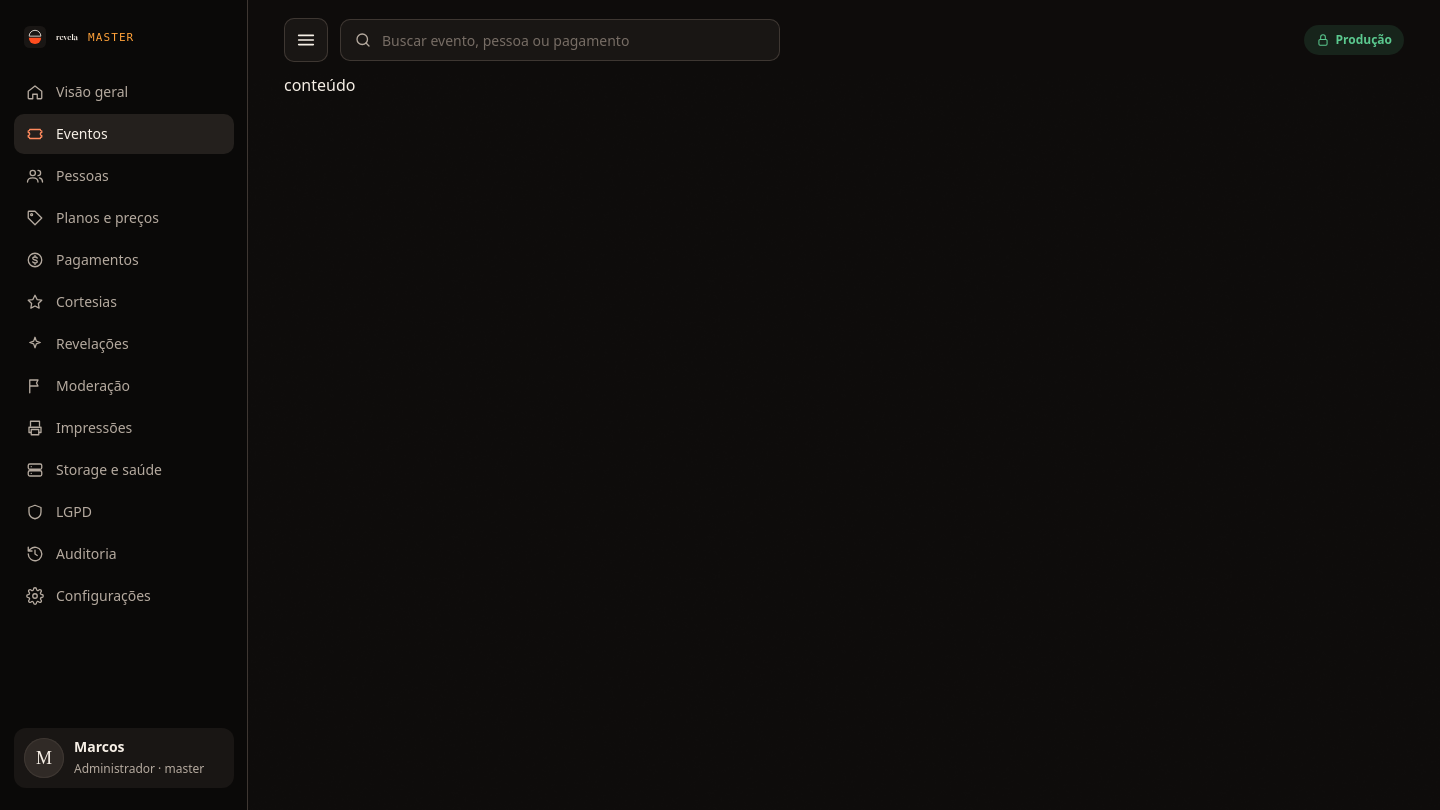
desktop (≥ 1024 px): trilho recolhível › recolhe e expande pelo botão, mantendo rótulos acessíveis e title nos ícones
Click the button named "Recolher menu" at [306, 40], box [284,18,328,62]
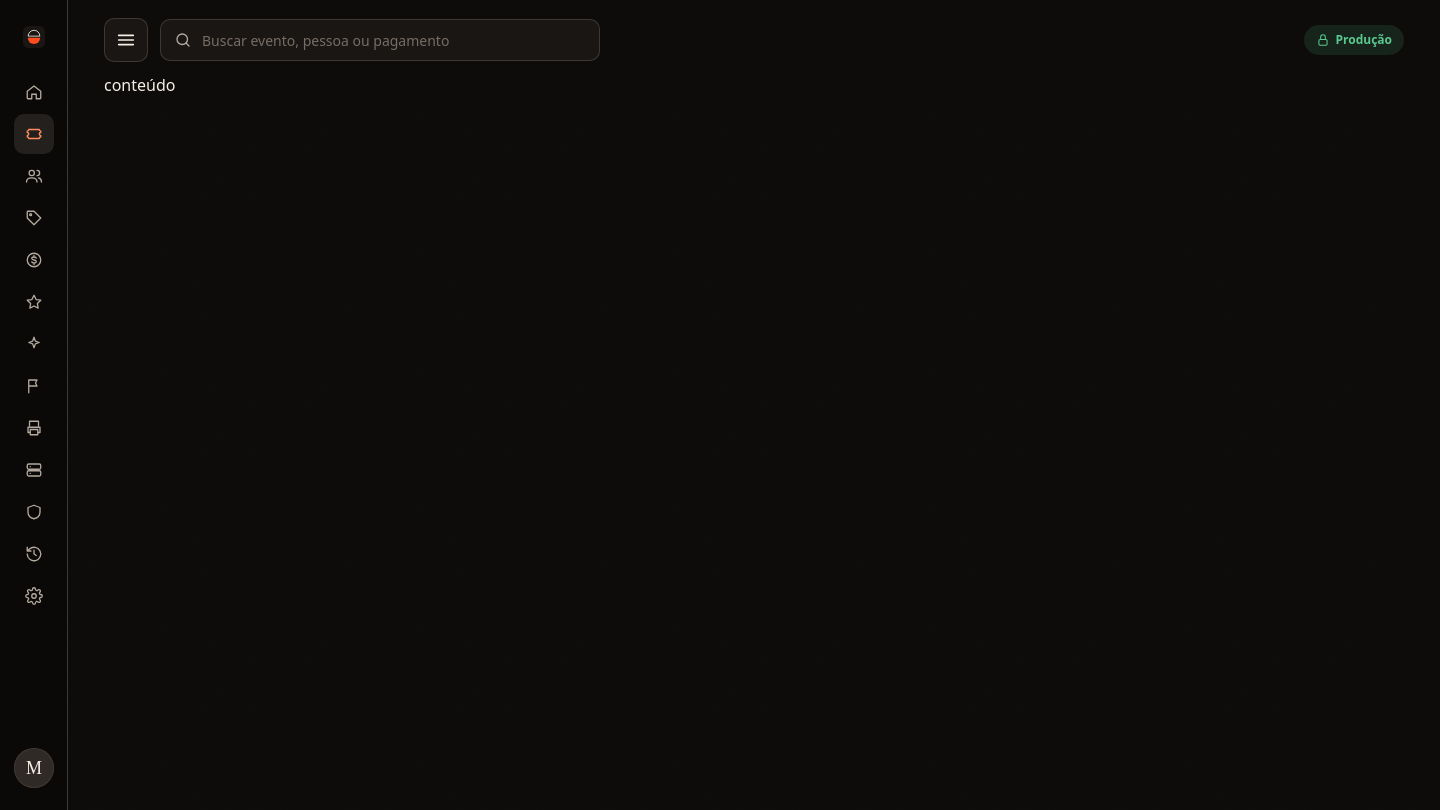
Result: the button named "Abrir menu" is collapsed
Click the button named "Abrir menu" at [126, 40], box [104,18,148,62]
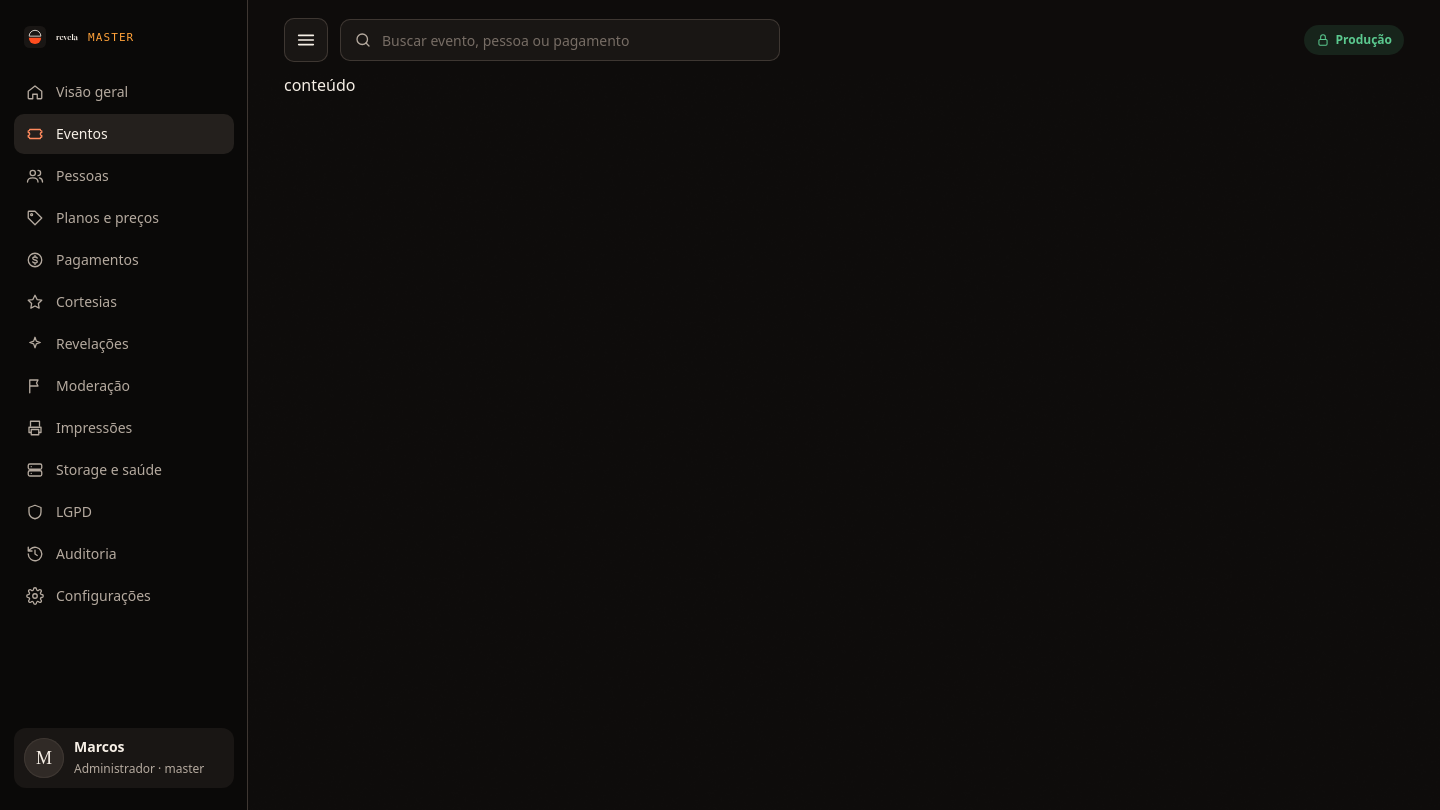
Result: the button named "Recolher menu" is expanded at [284,18,328,62]
